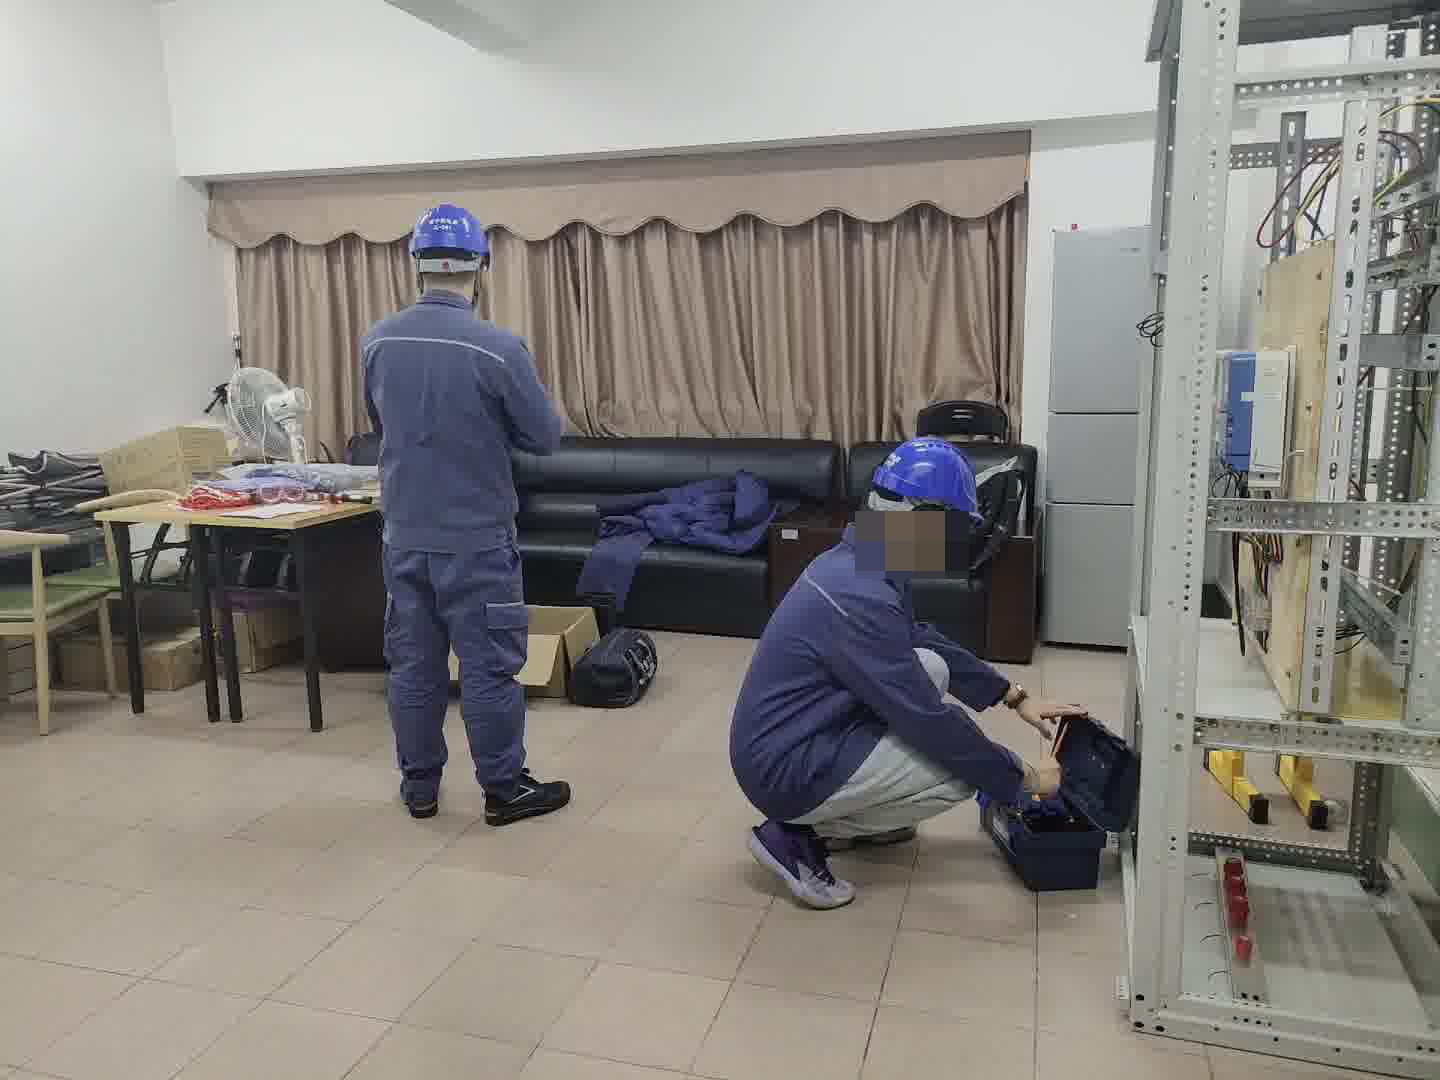downsuit: (379, 559, 535, 793)
halt: (870, 436, 984, 573), (405, 201, 494, 292)
hand: (1002, 686, 1080, 740), (1021, 760, 1060, 799)
noear: (902, 504, 934, 554)
person: (730, 433, 1130, 903), (356, 200, 571, 819)
upsuit: (731, 524, 1016, 819), (358, 288, 569, 533)
